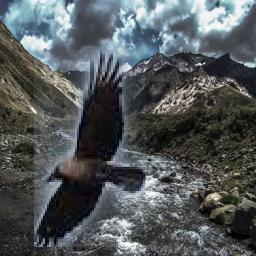Crow: (34, 51, 146, 248)
